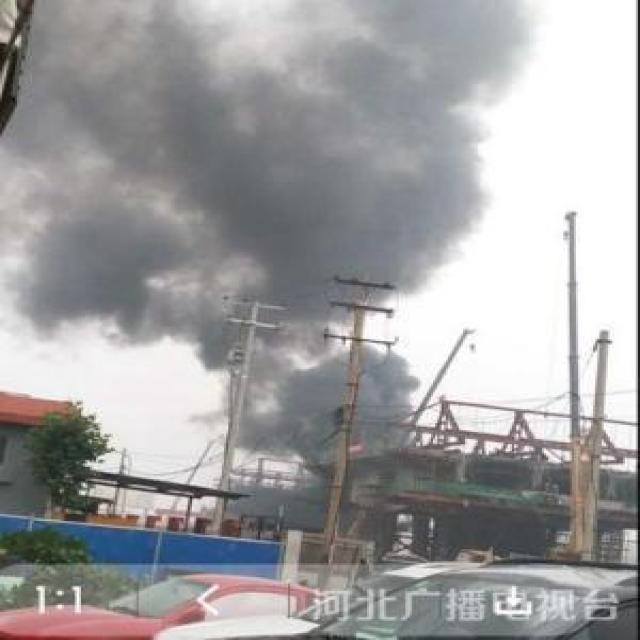smoke: (6, 0, 536, 455)
